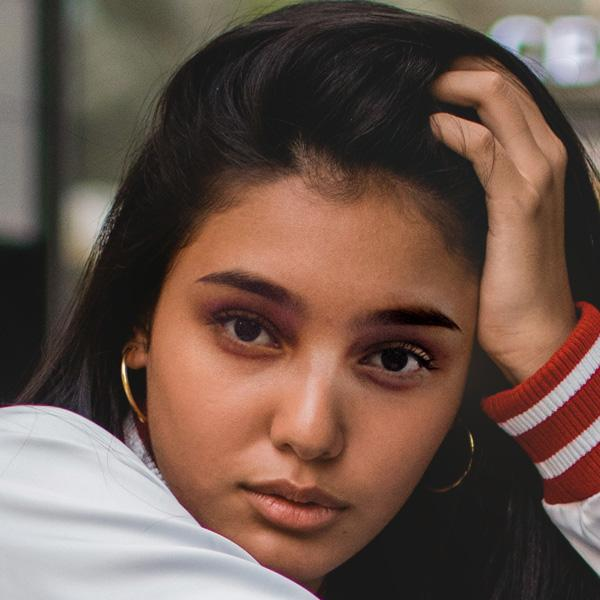Eyes: (200, 297, 289, 356), (348, 332, 435, 387)
